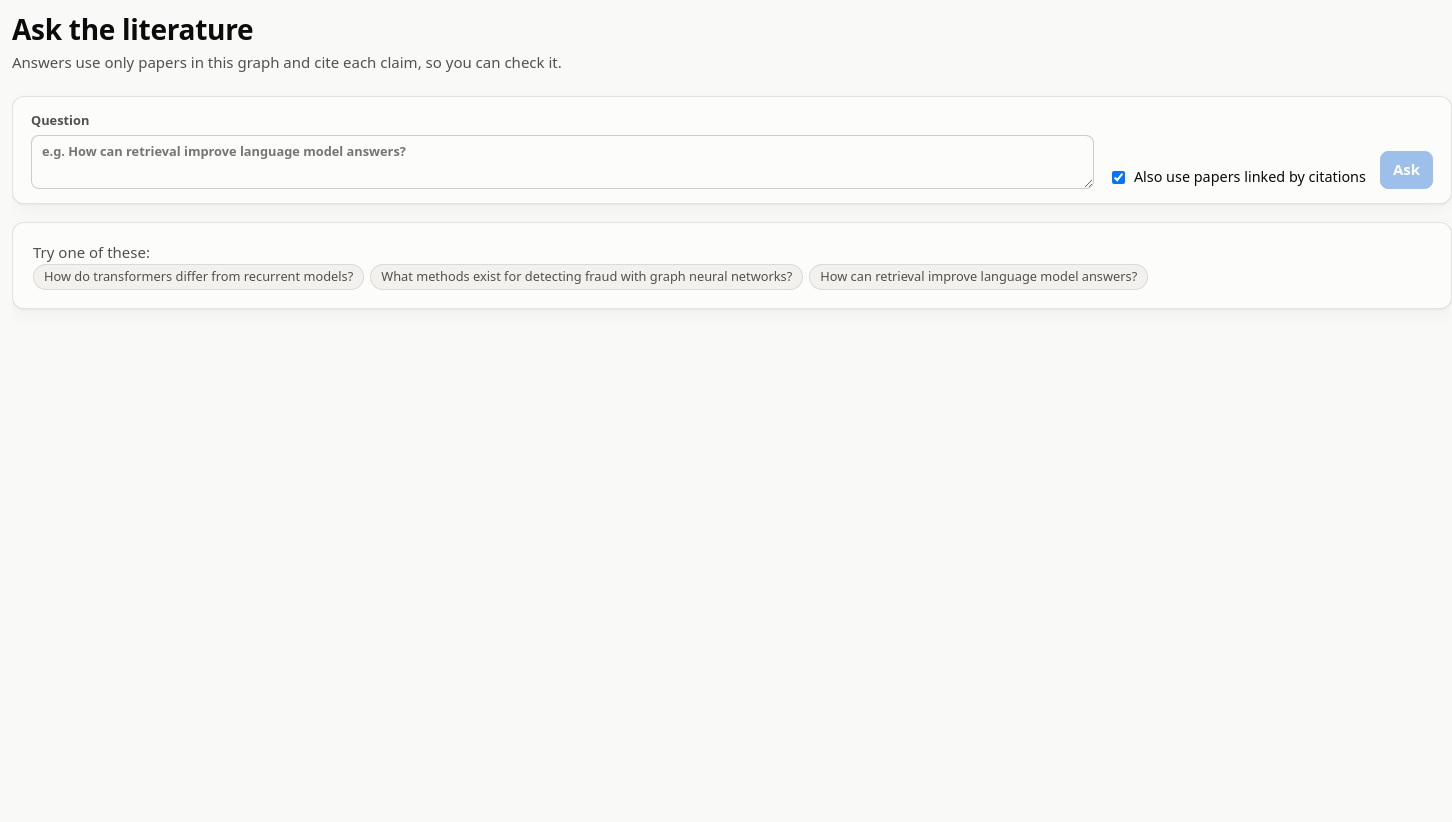
Scenario: AskPage › shows the answer with markers linking to numbered sources
Type "What is attention?" into the text box labelled "Question" at (562, 162), box [31,135,1094,189]
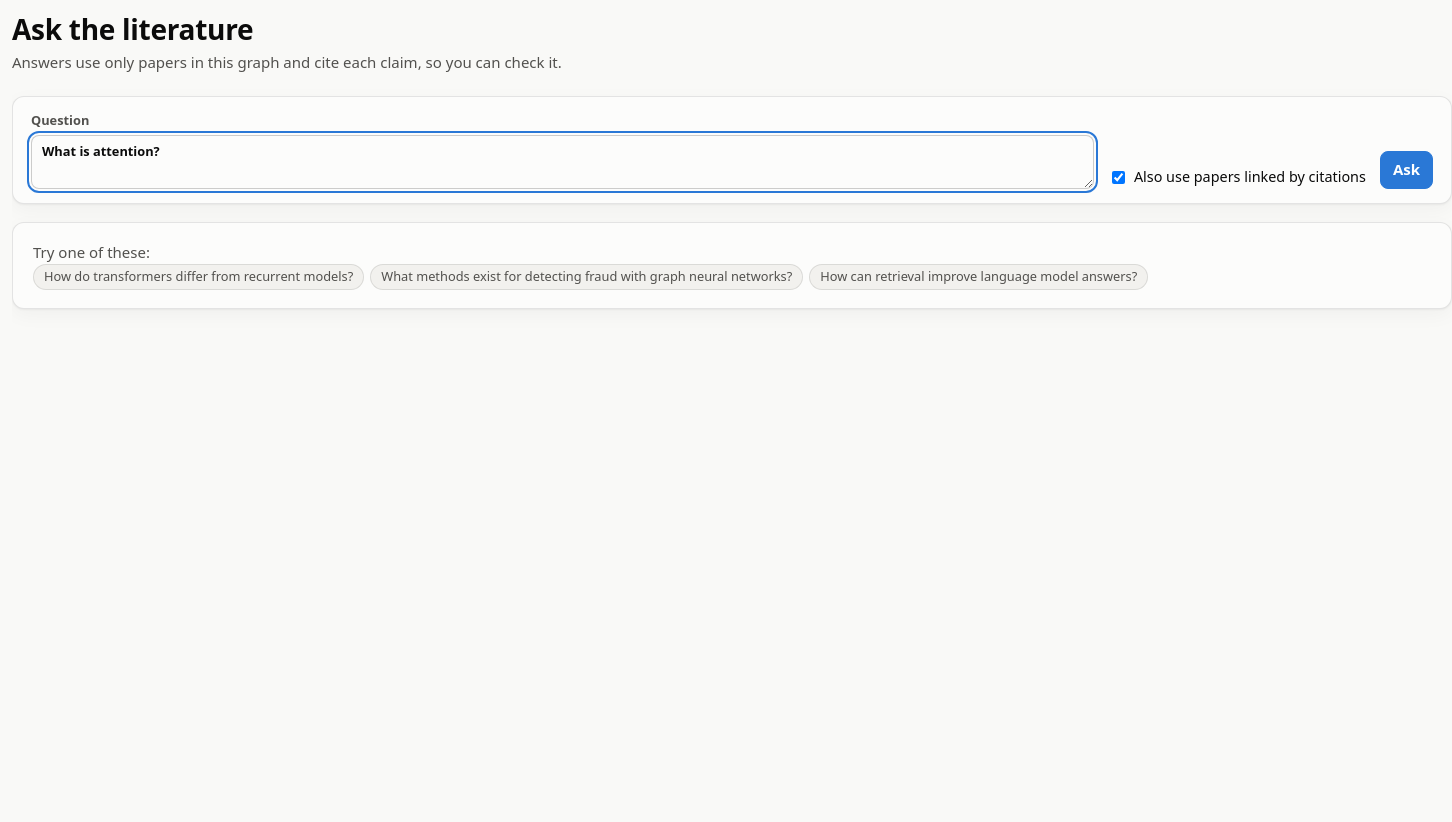
Click the button "Ask" at (1406, 170), box [1380,152,1433,189]
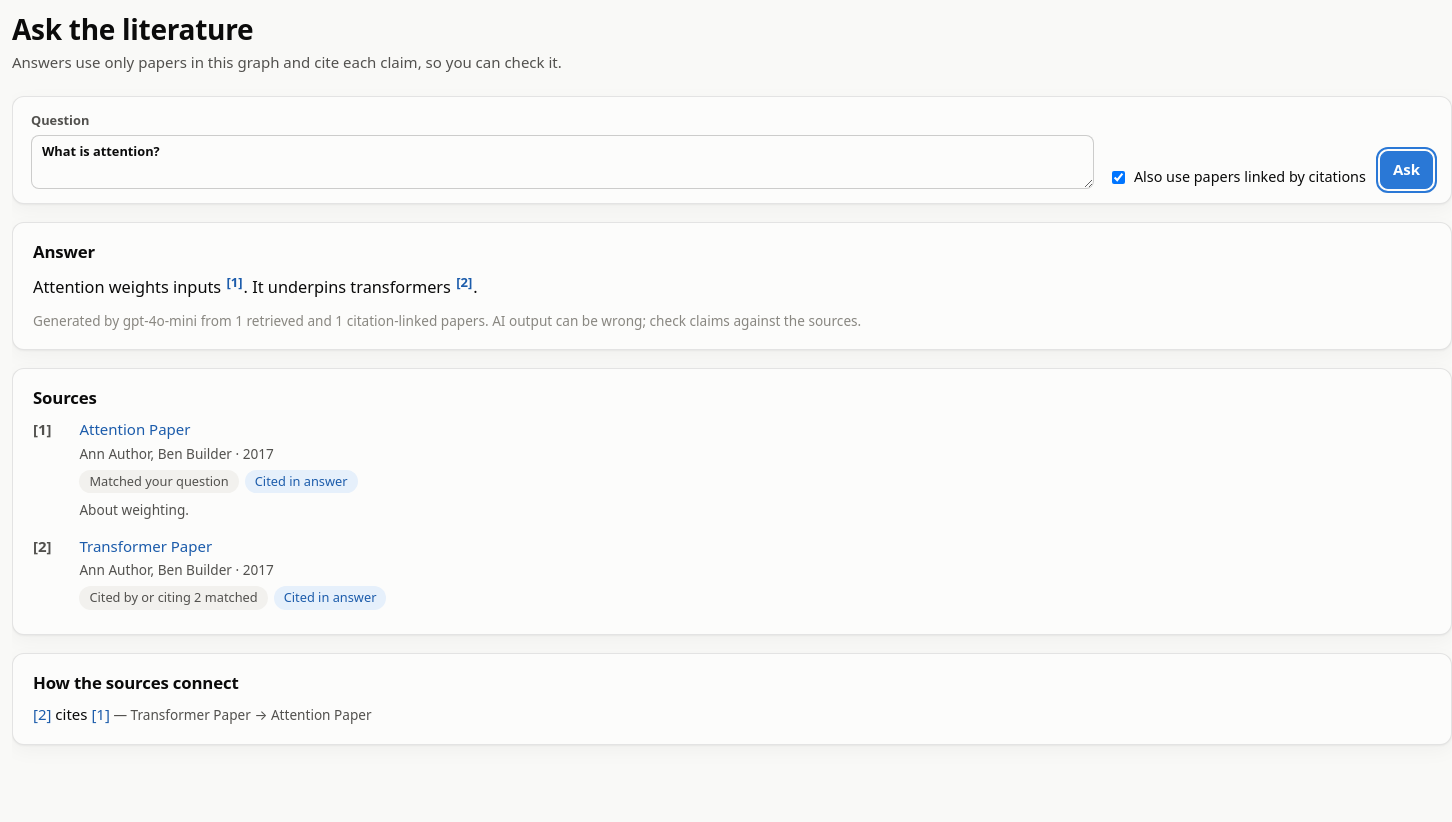
expect the text "Attention weights inputs" is shown: met, box [33,276,225,298]
expect the text "Matched your question" is shown: met, box [89,472,229,490]
expect the text "Cited by or citing 2 matched" is shown: met, box [89,588,258,606]
